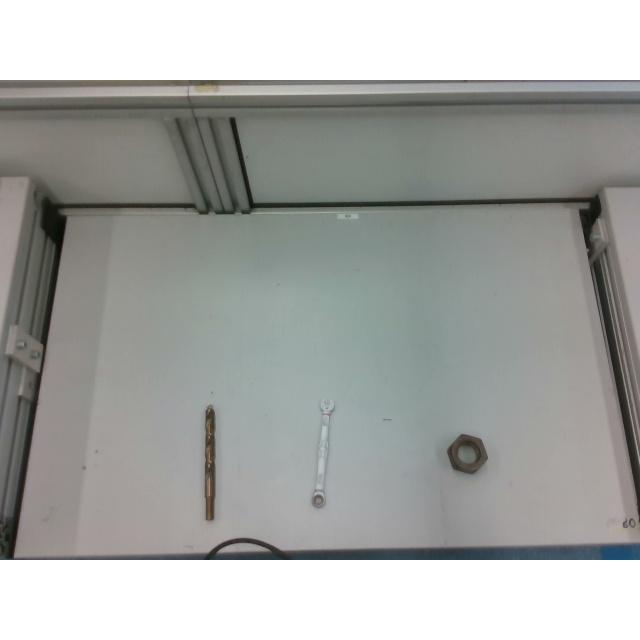Drill: (204, 404, 216, 520)
M30: (443, 432, 489, 474)
Wrench: (310, 399, 334, 508)
